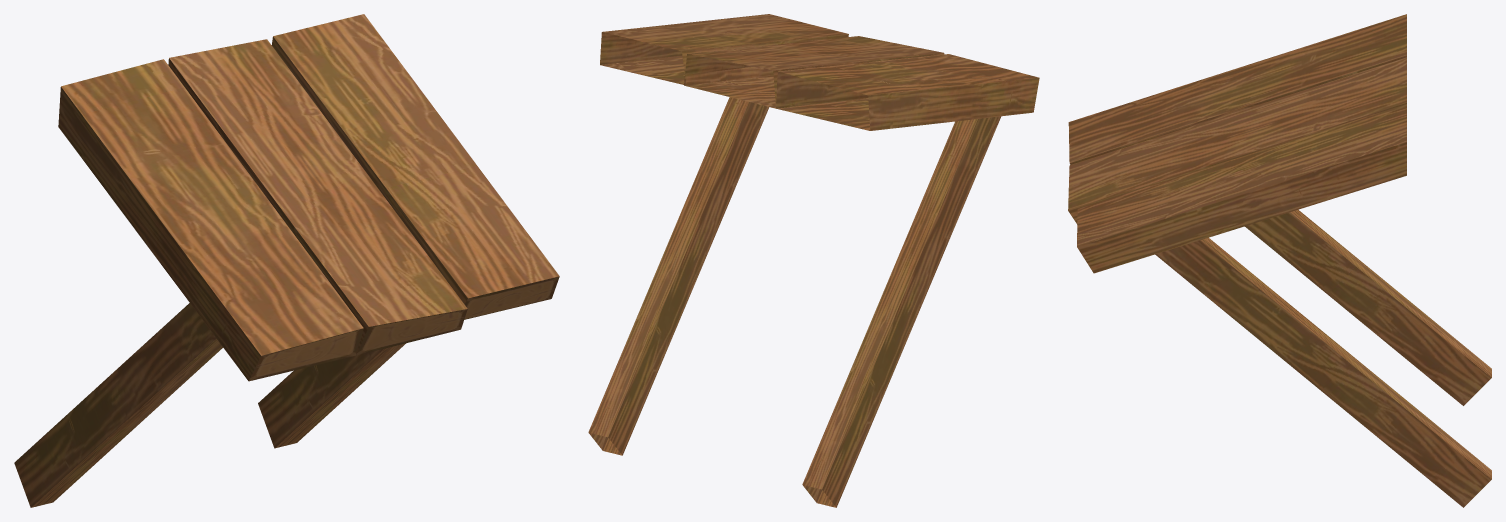
The model's file is Window_Roof_Thin.glb.
The picture shows the model from 3 angles, left to right: view 1: azimuth 30°, elevation 25°; view 2: azimuth 150°, elevation 25°; view 3: azimuth 270°, elevation 25°; orthographic projection. The views are drawn at different scales.
Parts seen in each view (by area): view 1: Window_Roof_Thin; view 2: Window_Roof_Thin; view 3: Window_Roof_Thin.
Part boxes in pixels (x1,y1,x2,y2): Window_Roof_Thin: [14, 14, 559, 507]; Window_Roof_Thin: [588, 14, 1039, 507]; Window_Roof_Thin: [1068, 14, 1491, 507].
Size of the model in its own units: 0.8519 by 1.18 by 1.18.
1 material, 1 textured.
